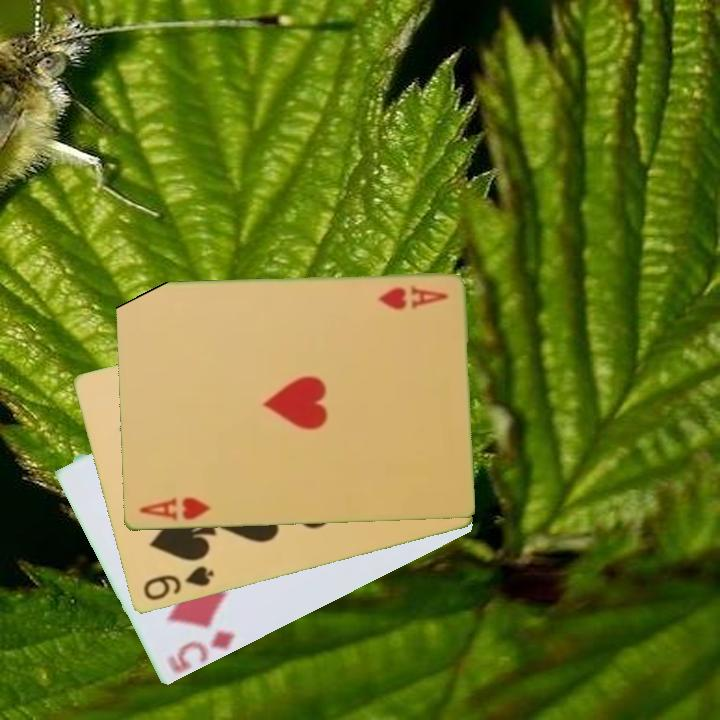5d: (163, 627, 238, 677)
9s: (139, 562, 217, 604)
Ah: (135, 494, 213, 524), (373, 283, 451, 312)
